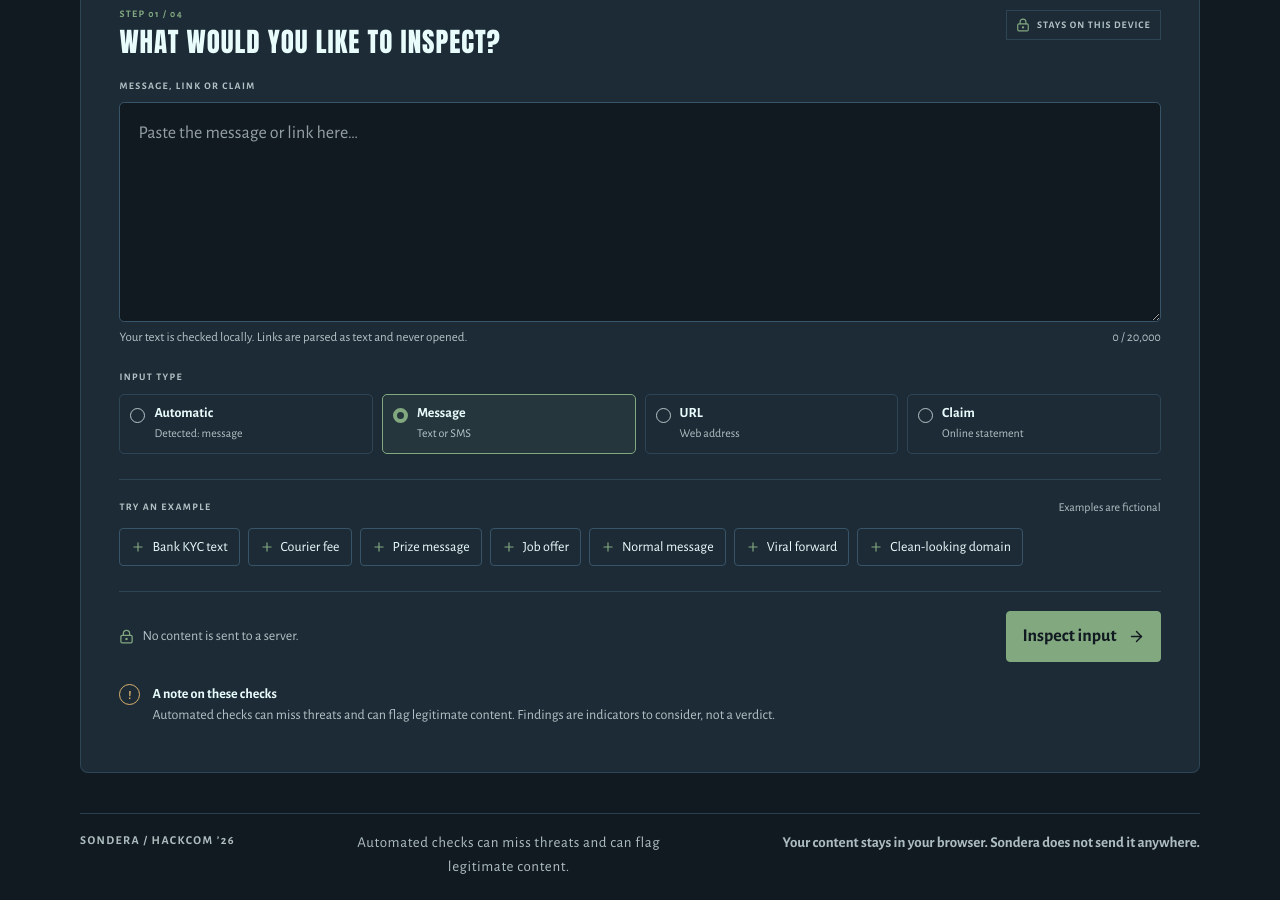
Test: Sondera Submit and Inspect › shows the requested clean-looking domain note without elevating info-only URL notes
(page scrolled)
Click the button "Clean-looking domain" at (940, 547), box x1=857 y1=528 x2=1023 y2=566
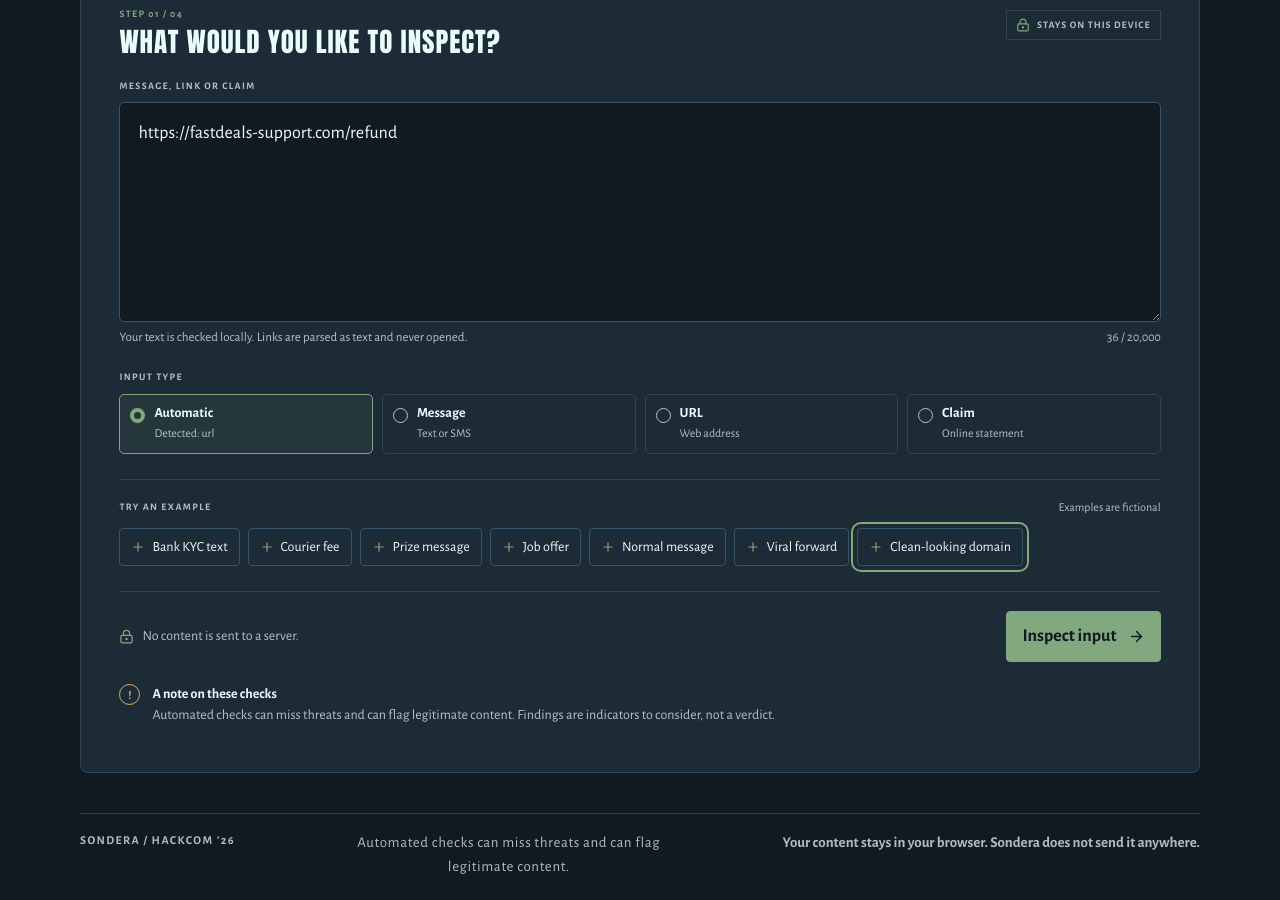
Click the button "Inspect input" at (1084, 637), box x1=1006 y1=611 x2=1161 y2=662
(page scrolled)
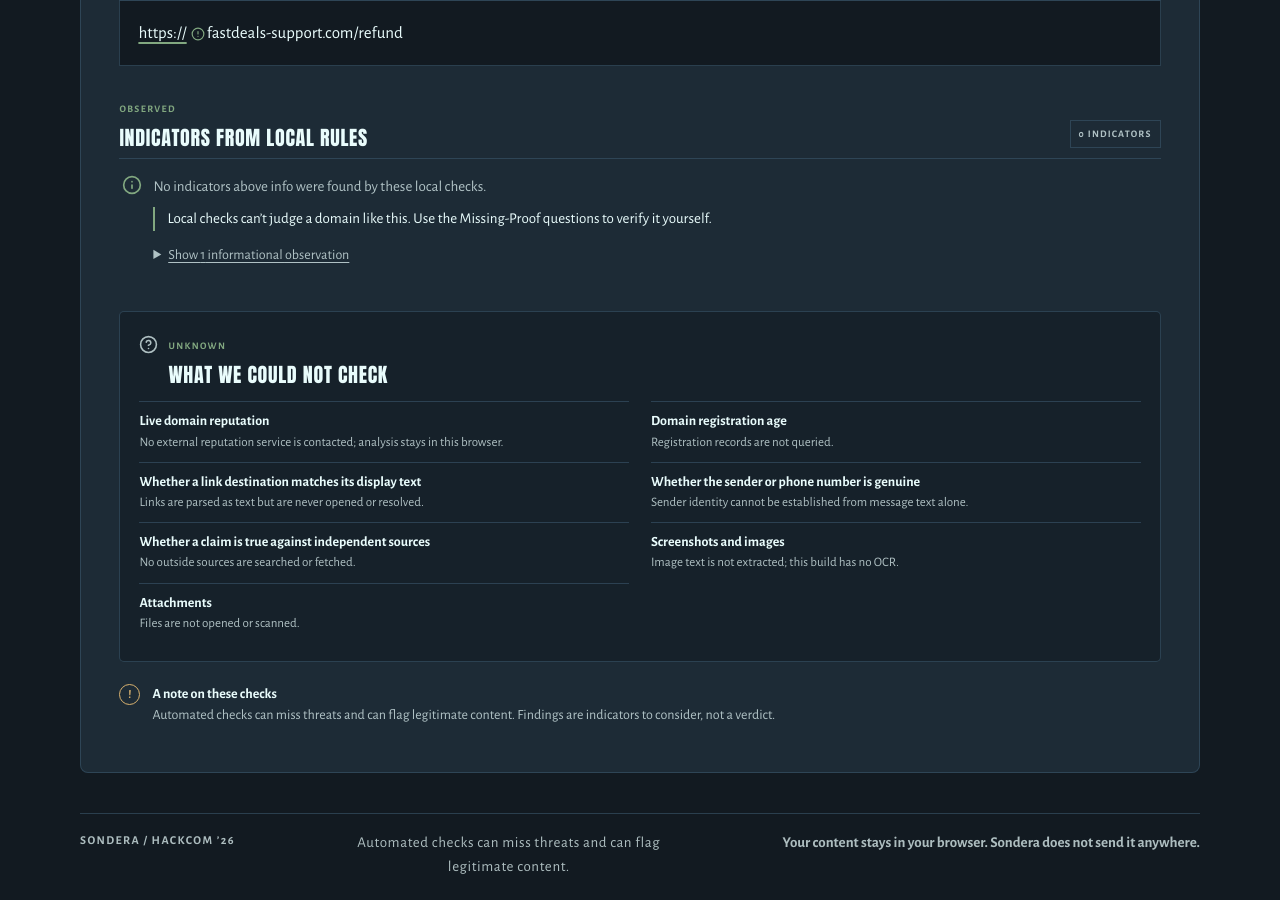
Now the text "No indicators above info were found by these local checks." is shown, box x1=153 y1=179 x2=486 y2=194
Now the text "Local checks can’t judge a domain like this. Use the Missing-Proof questions to verify it yourself." is shown, box x1=167 y1=211 x2=712 y2=226
Now the heading "Show 1 informational observation" is shown, box x1=153 y1=244 x2=349 y2=266
